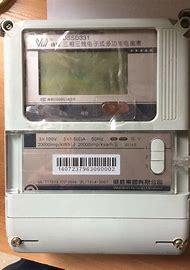digital: (3, 16, 188, 254)
